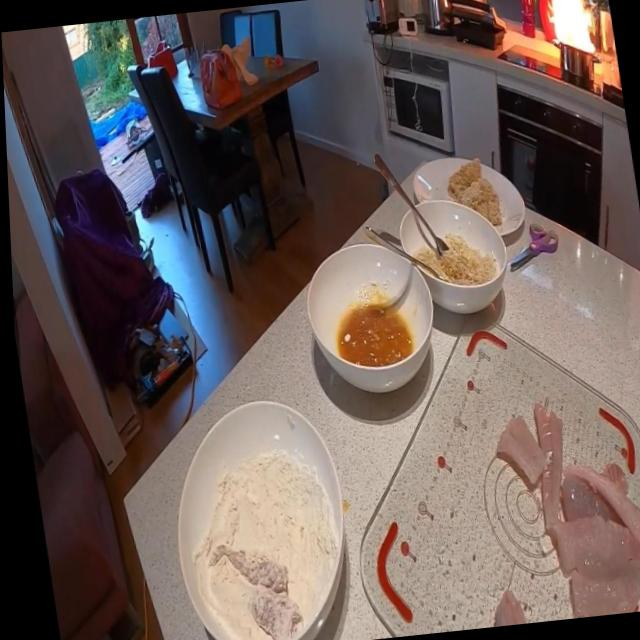fire: (539, 0, 599, 59)
